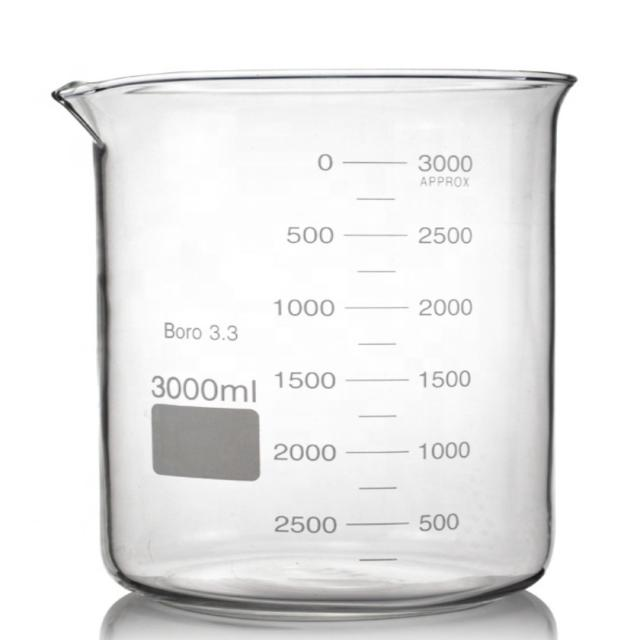recyclable: (47, 56, 613, 627)
